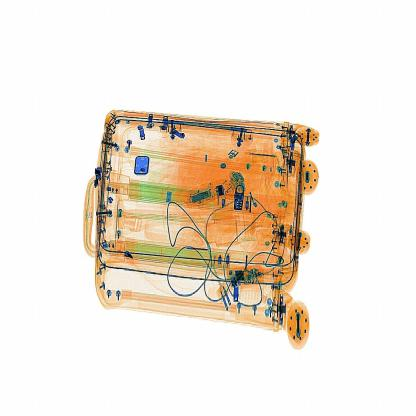wrench: (236, 145, 286, 164)
